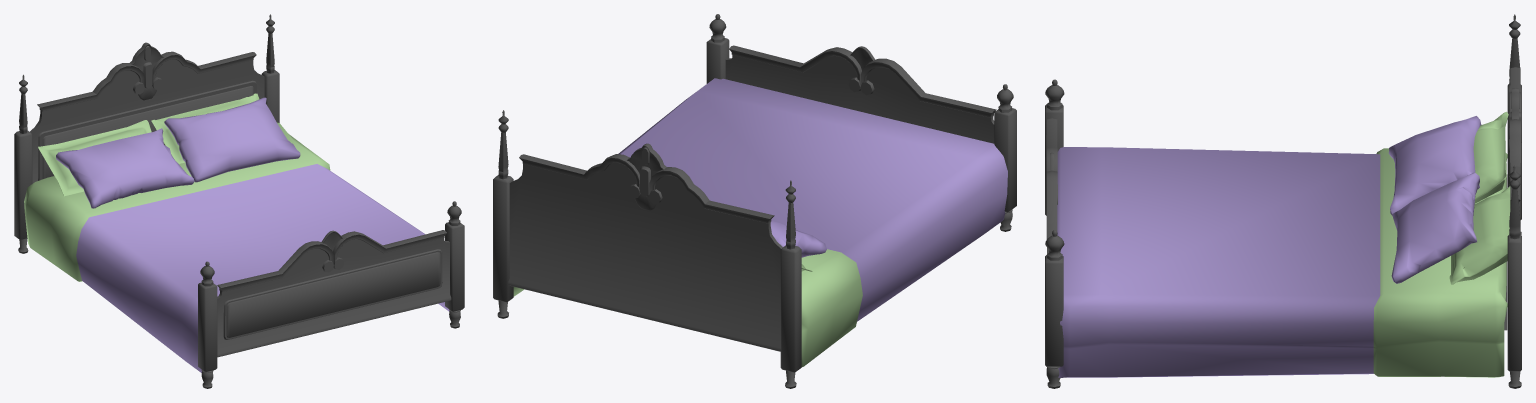
The model's file is BNBD98.FBX.
The picture shows the model from 3 angles, left to right: view 1: azimuth 30°, elevation 25°; view 2: azimuth 150°, elevation 25°; view 3: azimuth 270°, elevation 25°; orthographic projection. The views are drawn at different scales.
Visible parts, largest first — view 1: BNBD98; view 2: BNBD98; view 3: BNBD98.
Part boxes in pixels (x1,y1,x2,y2): BNBD98: [14, 14, 464, 388]; BNBD98: [493, 14, 1016, 388]; BNBD98: [1045, 14, 1521, 388].
Bounding box in the file's own units: 150 × 190 × 98.
